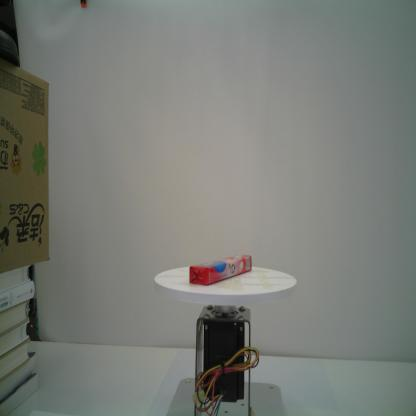Candy: (188, 254, 252, 285)
